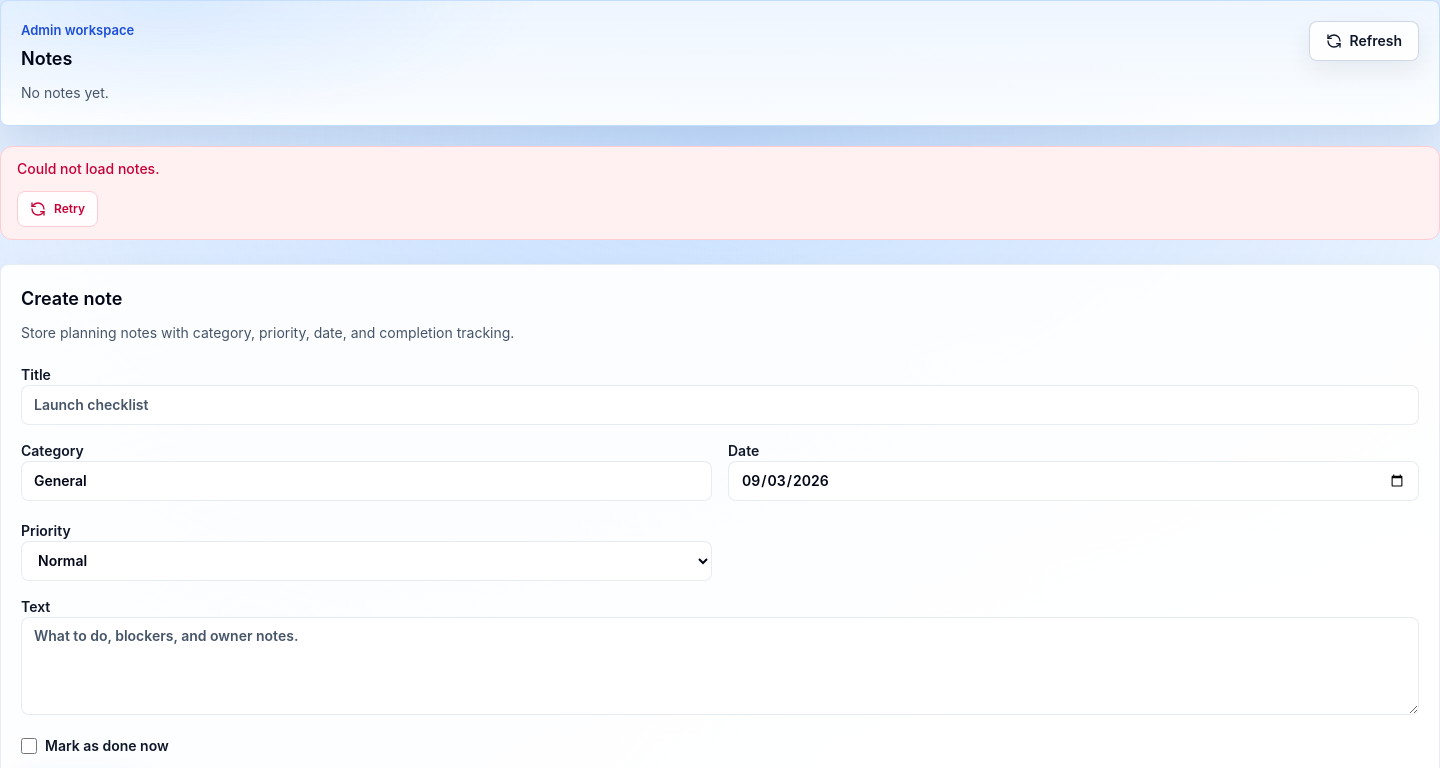
Test: AdminNotesManager state rendering › keeps load error retry wired to the original notes loader
Expected: the message shows "Could not load notes.", [17,160,159,176]
Click the button "Retry".
click(58, 208)  # box [17,190,98,226]
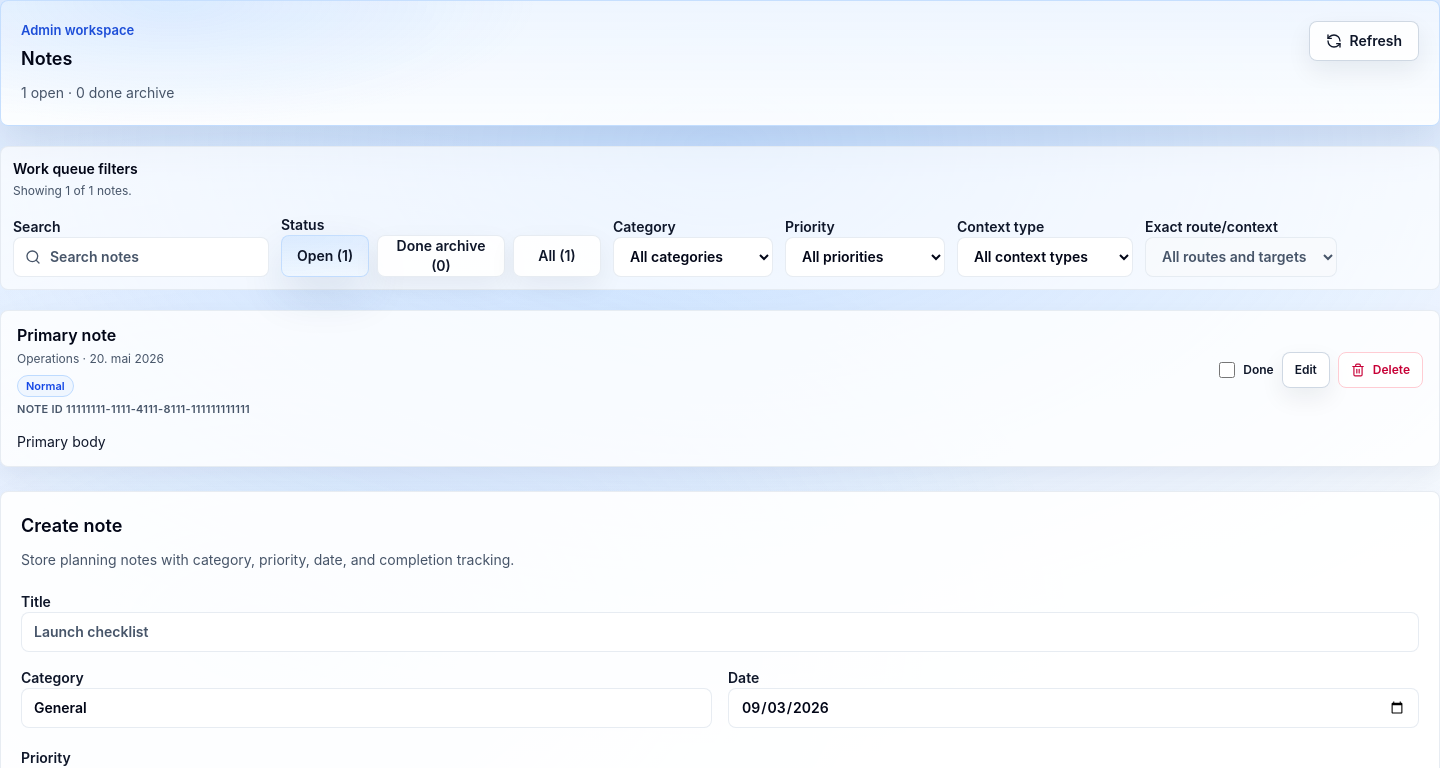
Expected: the text "Primary note" is shown, [17,324,116,344]
